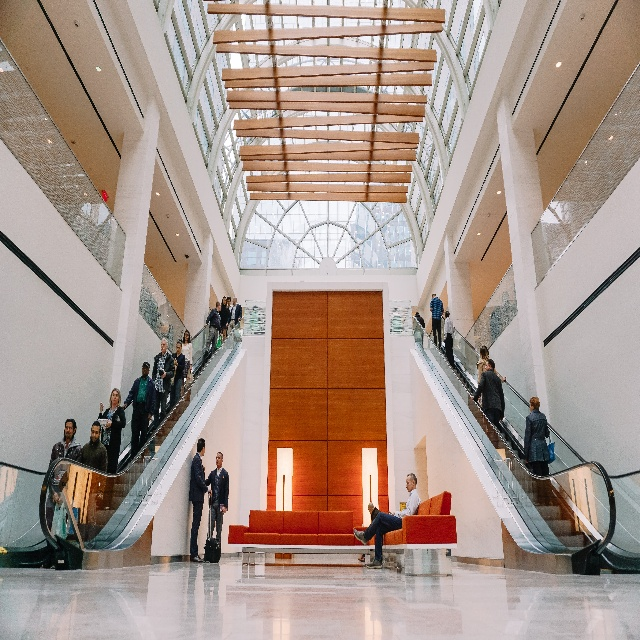Guantes: (95, 490, 104, 508)
Sin_guantes: (52, 492, 59, 504), (103, 419, 111, 428), (221, 505, 227, 514), (100, 402, 104, 413), (147, 414, 152, 422), (122, 402, 127, 410), (161, 370, 166, 378), (174, 356, 178, 366), (208, 488, 213, 495), (478, 396, 482, 404), (237, 317, 242, 323), (502, 375, 507, 381), (189, 363, 192, 372)
